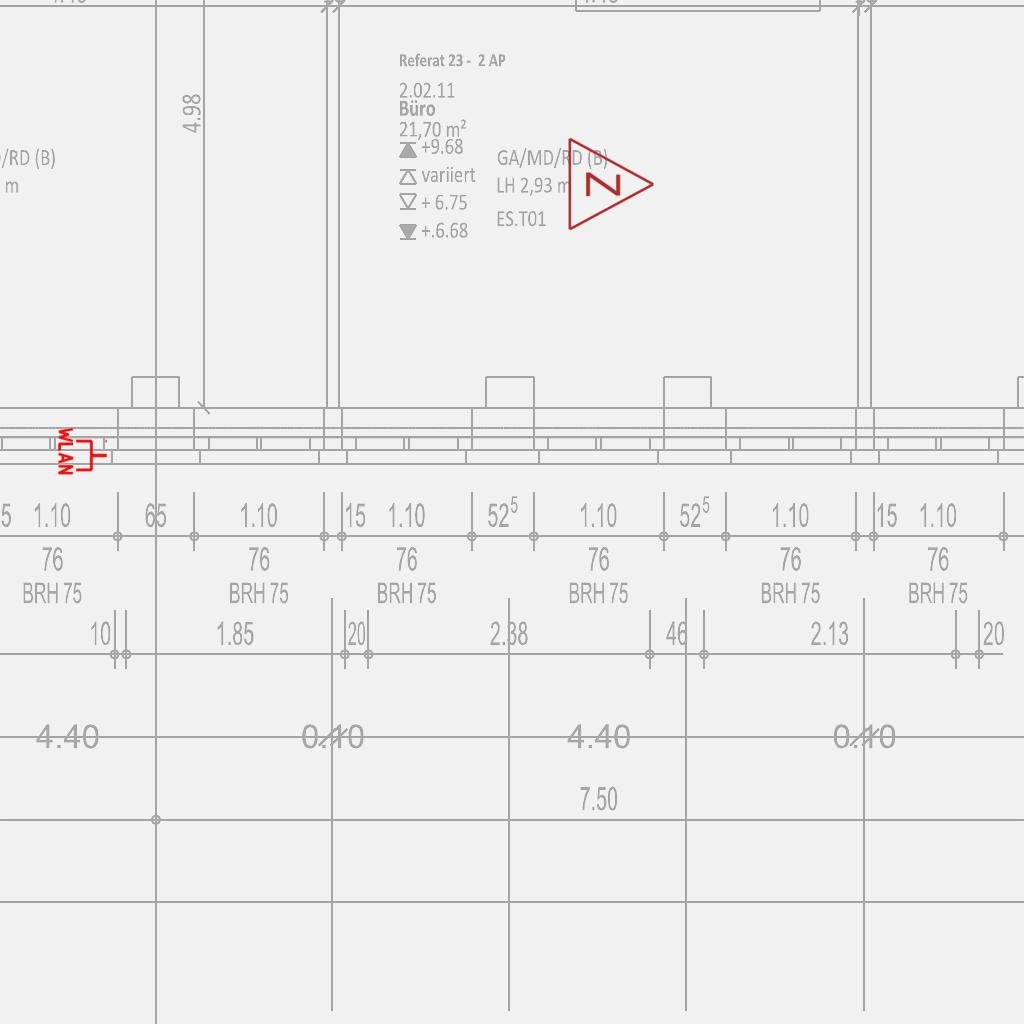WLAN: (57, 425, 109, 477)
Zimmersignalleuchte: (561, 134, 661, 232)
